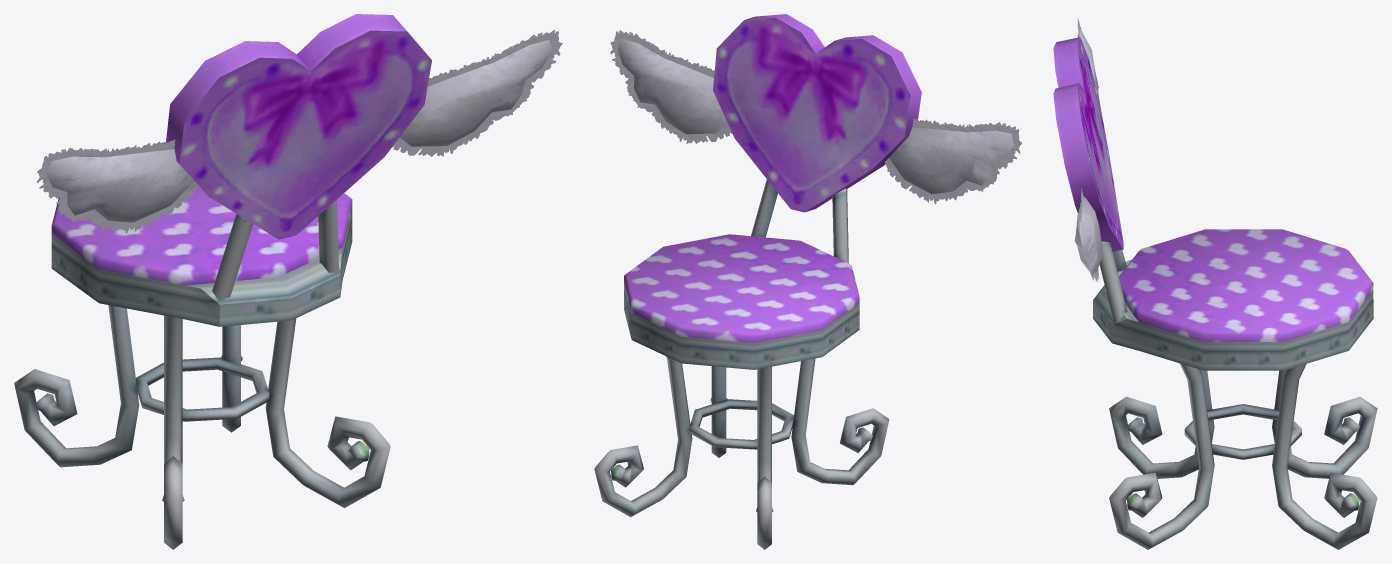
The model's file is furni_0200010_01.FBX.
3 views of the same model, side by side, from view 1: azimuth 30°, elevation 25°; view 2: azimuth 150°, elevation 25°; view 3: azimuth 270°, elevation 25° (orthographic). The views are drawn at different scales.
Visible parts, largest first — view 1: furni_0200010_01; view 2: furni_0200010_01; view 3: furni_0200010_01.
Part boxes in pixels (left/top/right/bottom): furni_0200010_01: left=14, top=14, right=562, bottom=549; furni_0200010_01: left=594, top=14, right=1021, bottom=549; furni_0200010_01: left=1053, top=18, right=1377, bottom=549.
Bounding box in the file's own units: 94.33 × 90.14 × 59.02.
1 material, 1 textured.
